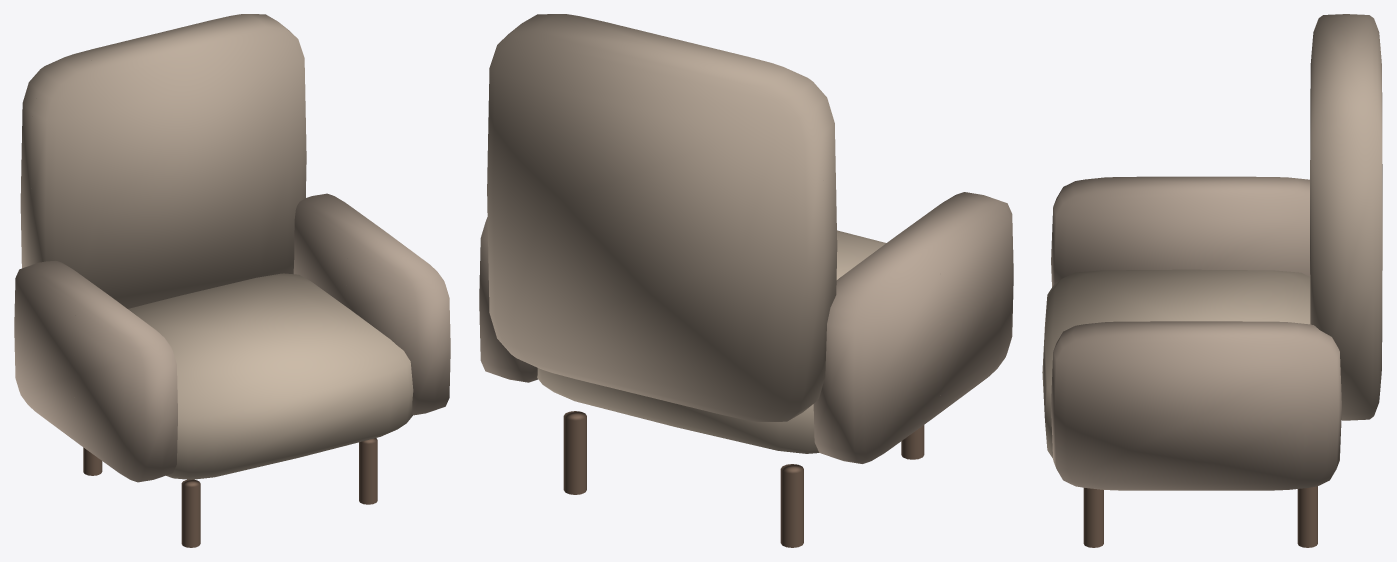
The model's file is lounge_chair_800x800.glb.
3 views of the same model, side by side, from view 1: azimuth 30°, elevation 25°; view 2: azimuth 150°, elevation 25°; view 3: azimuth 270°, elevation 25° (orthographic). The views are drawn at different scales.
Parts seen in each view (by area): view 1: back_cushion, seat_cushion, left_arm, right_arm, round_chair_leg (×2); view 2: back_cushion, left_arm, seat_cushion, round_chair_leg (×2), right_arm; view 3: right_arm, back_cushion, left_arm, seat_cushion, round_chair_leg (×2).
Boxes of the visible parts, bbox=[...] form: back_cushion: bbox=[20, 14, 306, 308]; seat_cushion: bbox=[128, 273, 413, 479]; left_arm: bbox=[14, 261, 177, 482]; right_arm: bbox=[293, 193, 450, 415]; round_chair_leg (×2): bbox=[181, 438, 377, 547]; back_cushion: bbox=[487, 14, 837, 421]; left_arm: bbox=[813, 192, 1013, 463]; seat_cushion: bbox=[537, 230, 886, 453]; round_chair_leg (×2): bbox=[563, 411, 803, 547]; right_arm: bbox=[479, 217, 537, 382]; right_arm: bbox=[1051, 321, 1341, 490]; back_cushion: bbox=[1310, 14, 1382, 420]; left_arm: bbox=[1051, 176, 1310, 286]; seat_cushion: bbox=[1042, 269, 1310, 458]; round_chair_leg (×2): bbox=[1083, 486, 1317, 547].
Size of the model in its own units: 0.93 by 1.11 by 0.7946.
